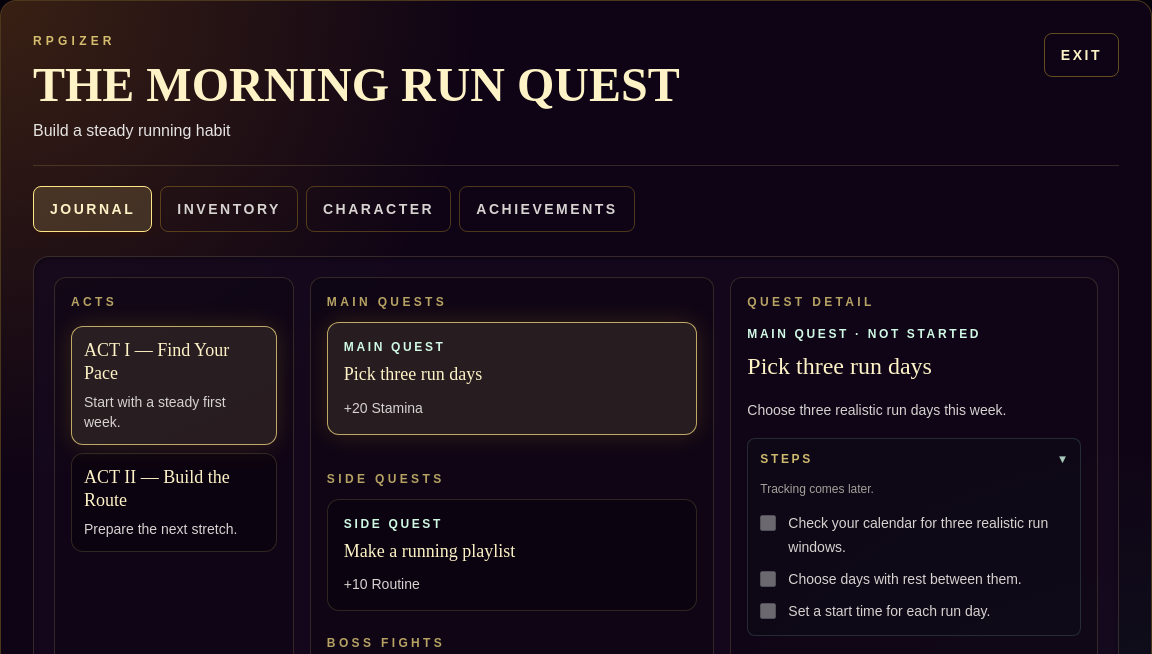
Test case: AdventureDetailMenuScreen › switches visible tabs by click without page navigation
Click the tab "Inventory" at [229, 209], box left=160, top=186, right=298, bottom=232
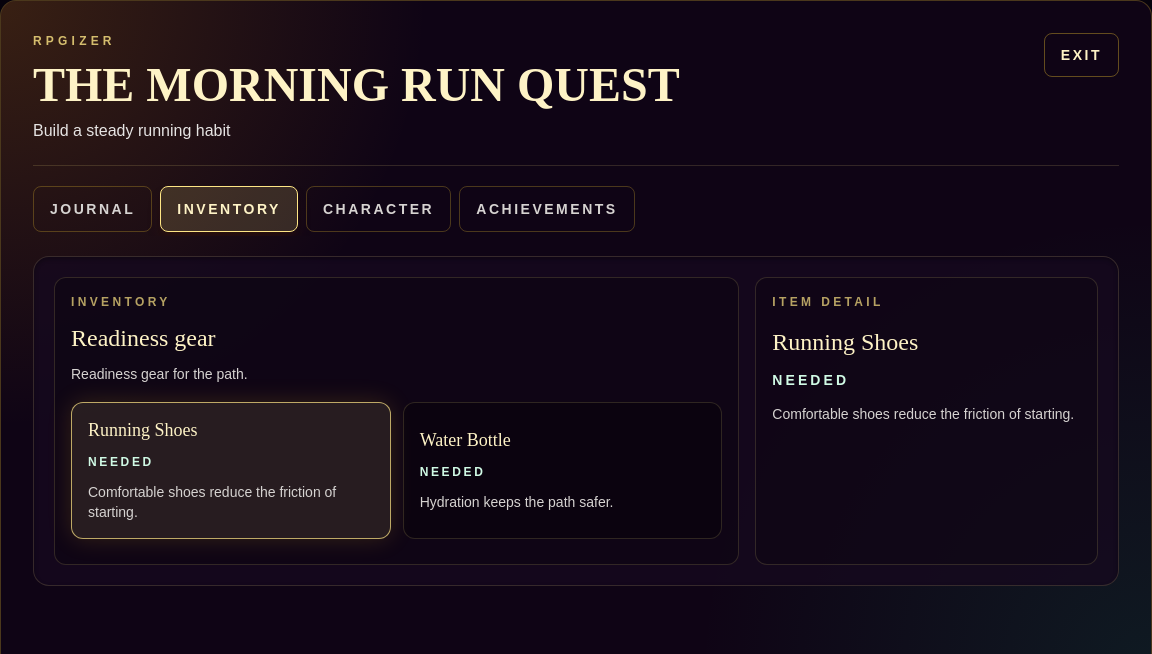
Check: the panel shows "Readiness gear", box left=71, top=325, right=216, bottom=351
Check: the panel shows "Running Shoes", box left=71, top=402, right=391, bottom=538
